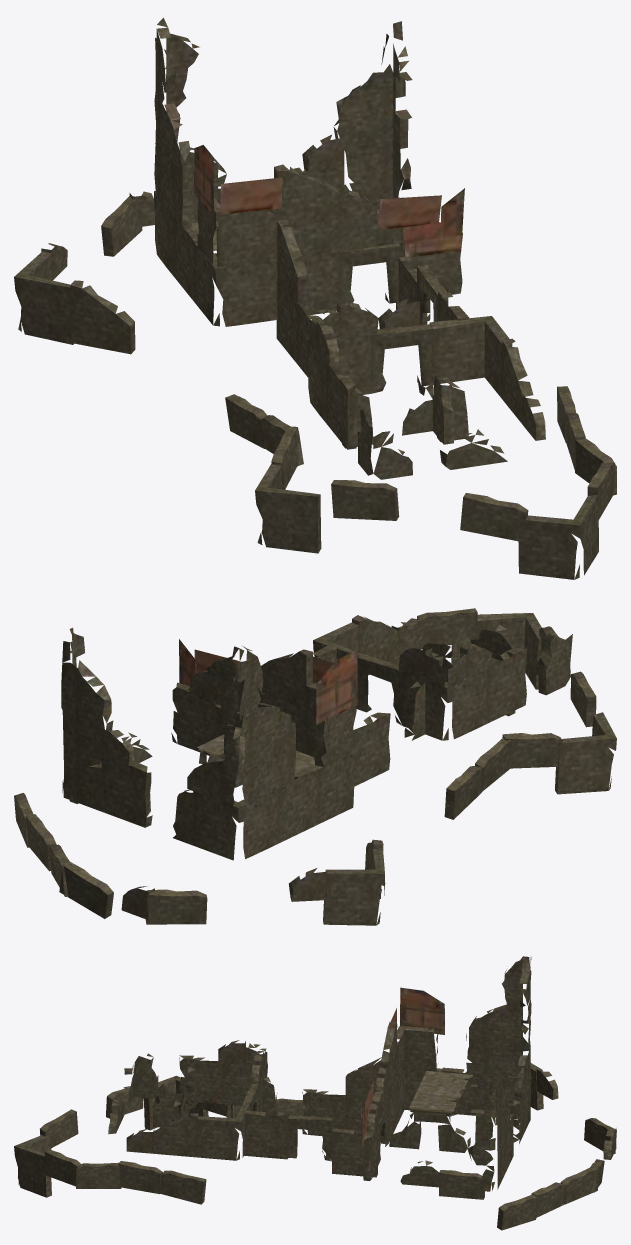
File: jungle_ruins_a.glb
The picture shows the model from 3 angles, top to bottom: view 1: azimuth 30°, elevation 25°; view 2: azimuth 150°, elevation 25°; view 3: azimuth 270°, elevation 25°; orthographic projection. The views are drawn at different scales.
Visible parts, largest first — view 1: jungle_ruins_a_HLOD; view 2: jungle_ruins_a_HLOD; view 3: jungle_ruins_a_HLOD.
Boxes of the visible parts, bbox=[...] form: jungle_ruins_a_HLOD: bbox=[14, 18, 616, 579]; jungle_ruins_a_HLOD: bbox=[14, 608, 616, 925]; jungle_ruins_a_HLOD: bbox=[14, 956, 616, 1230].
Size of the model in its own units: 22.21 by 15.63 by 39.93.
Materials: 1 (1 with a texture image).
